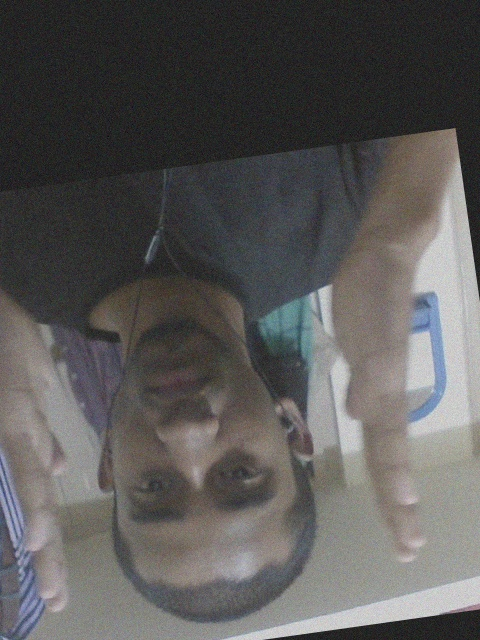hand: (328, 249, 429, 567), (1, 289, 73, 610)
